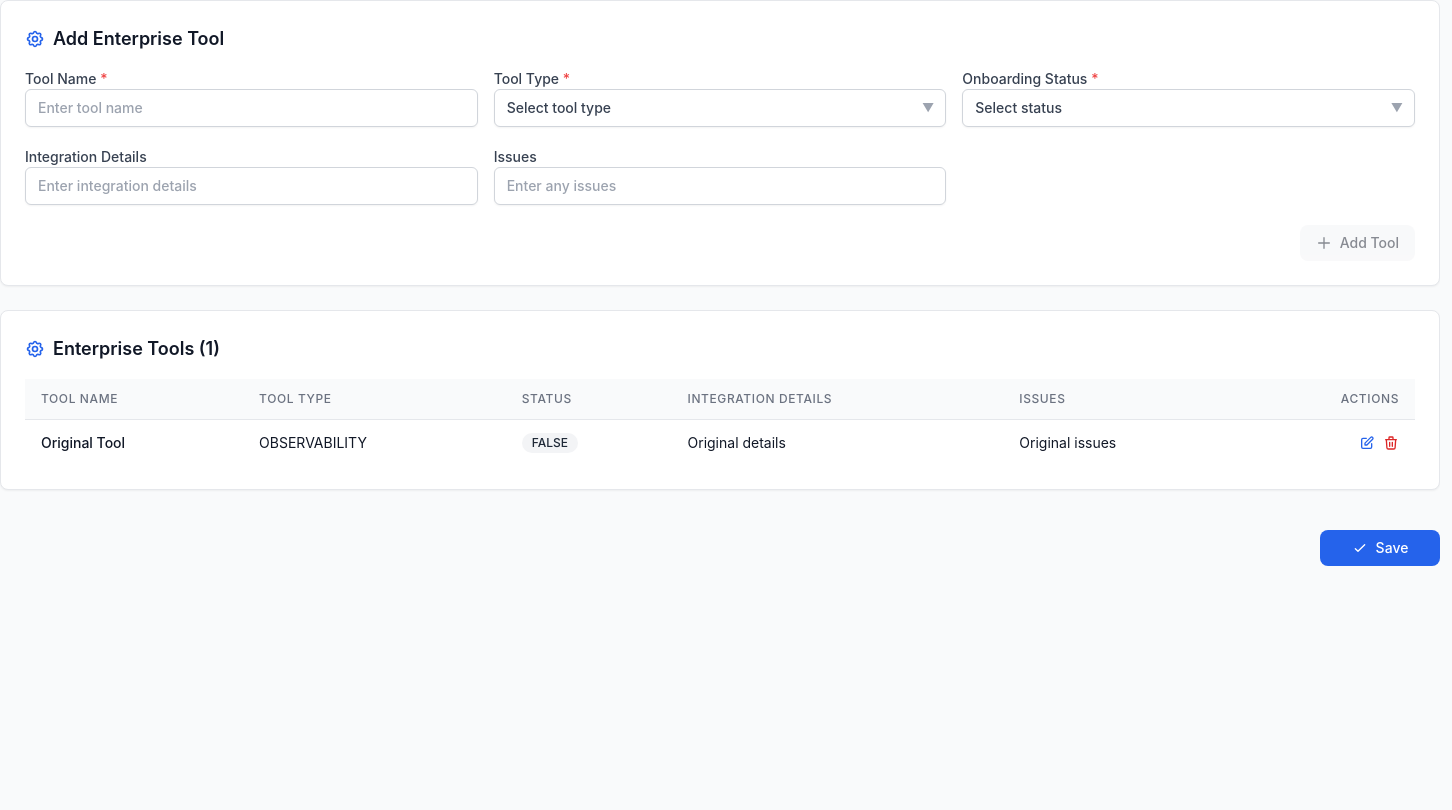
EnterpriseToolsStep › Edit Functionality › saves changes in edit mode
Click edit button
Click the button titled "Edit" at (1367, 442), box [1359,434,1375,450]
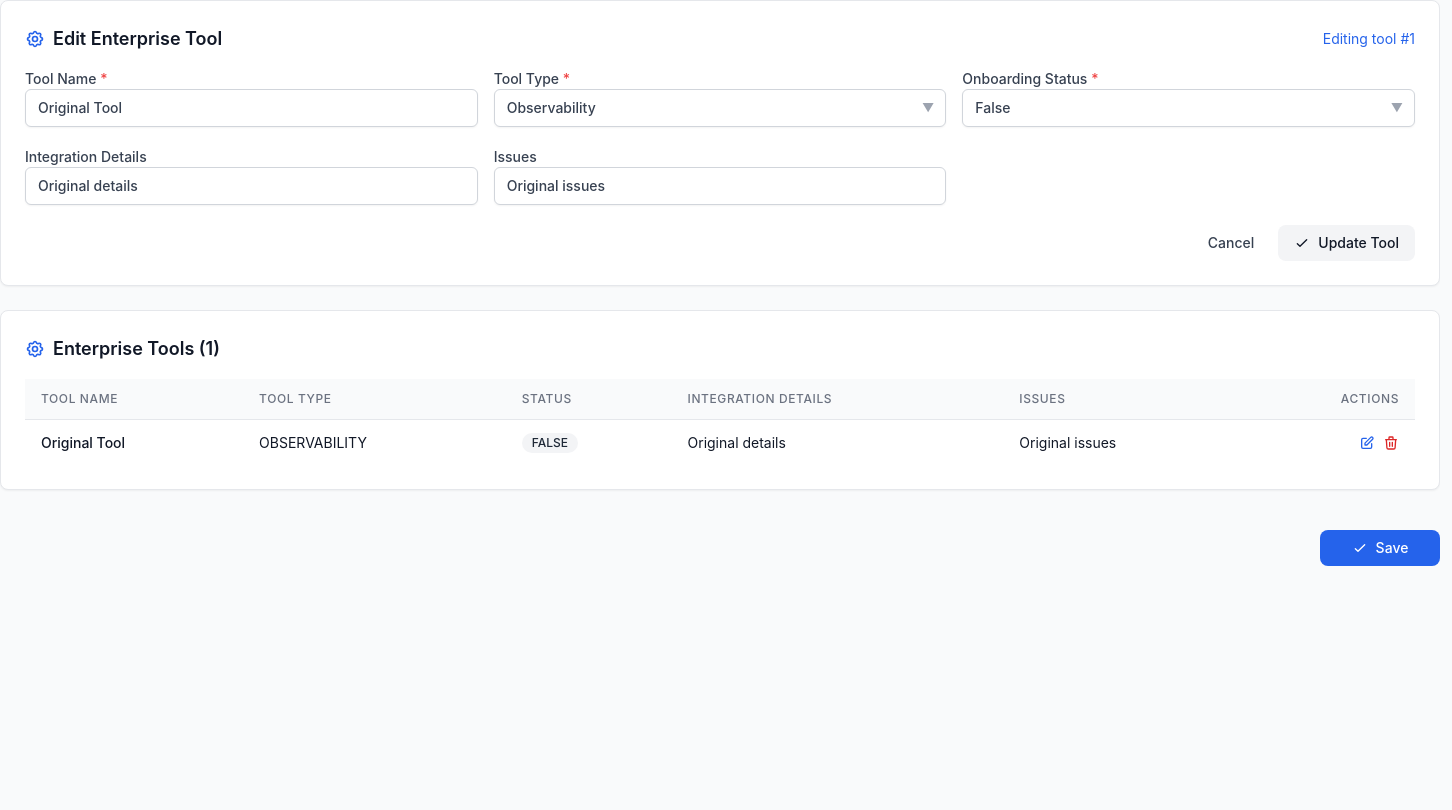
Update tool name
Replace the text in the field showing "Original Tool" with "Updated Tool" at (251, 108), box [25,89,478,127]
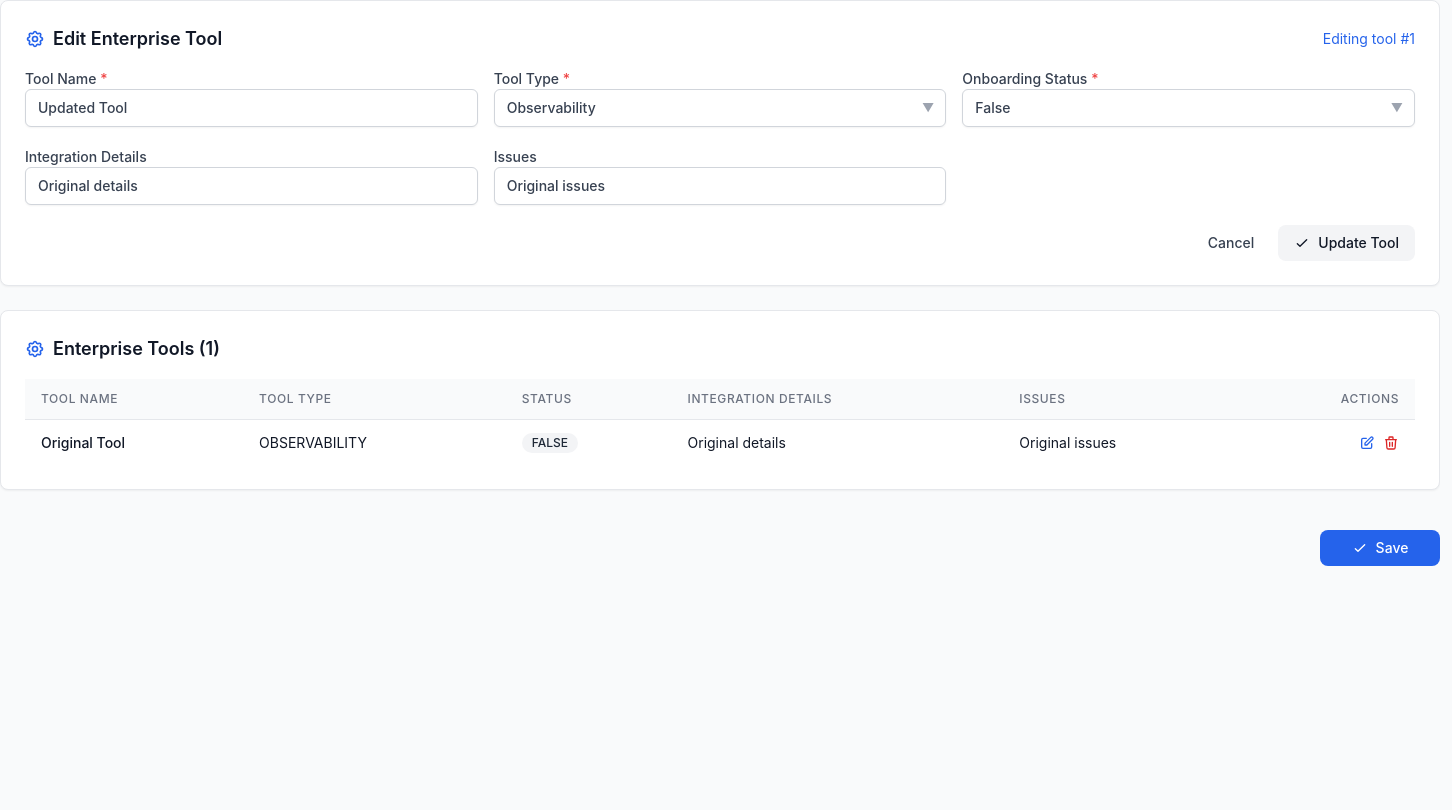
Update integration details
Replace the text in the field showing "Original details" with "Updated details" at (251, 186), box [25,167,478,205]
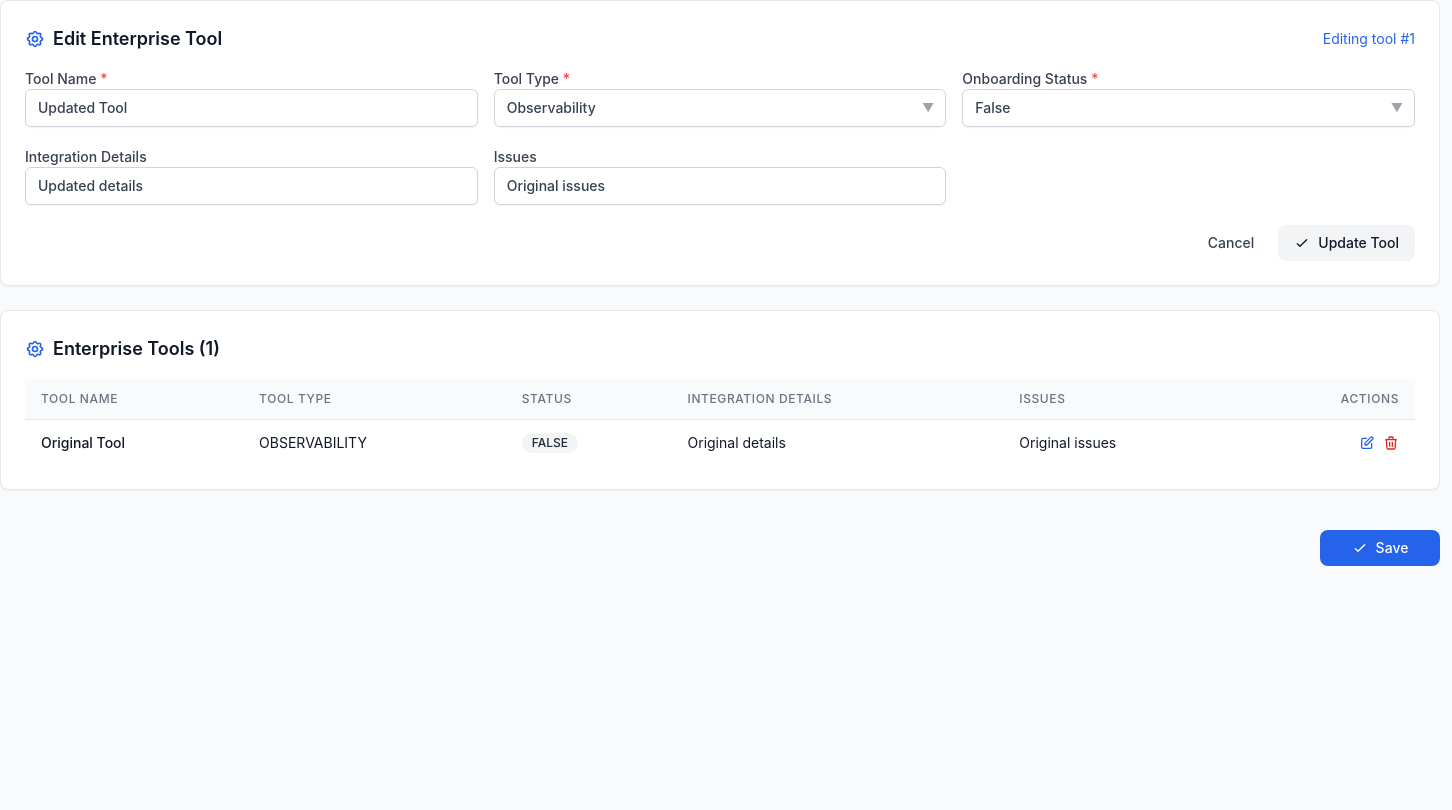
Update issues
Replace the text in the field showing "Original issues" with "Updated issues" at (720, 186), box [494,167,946,205]
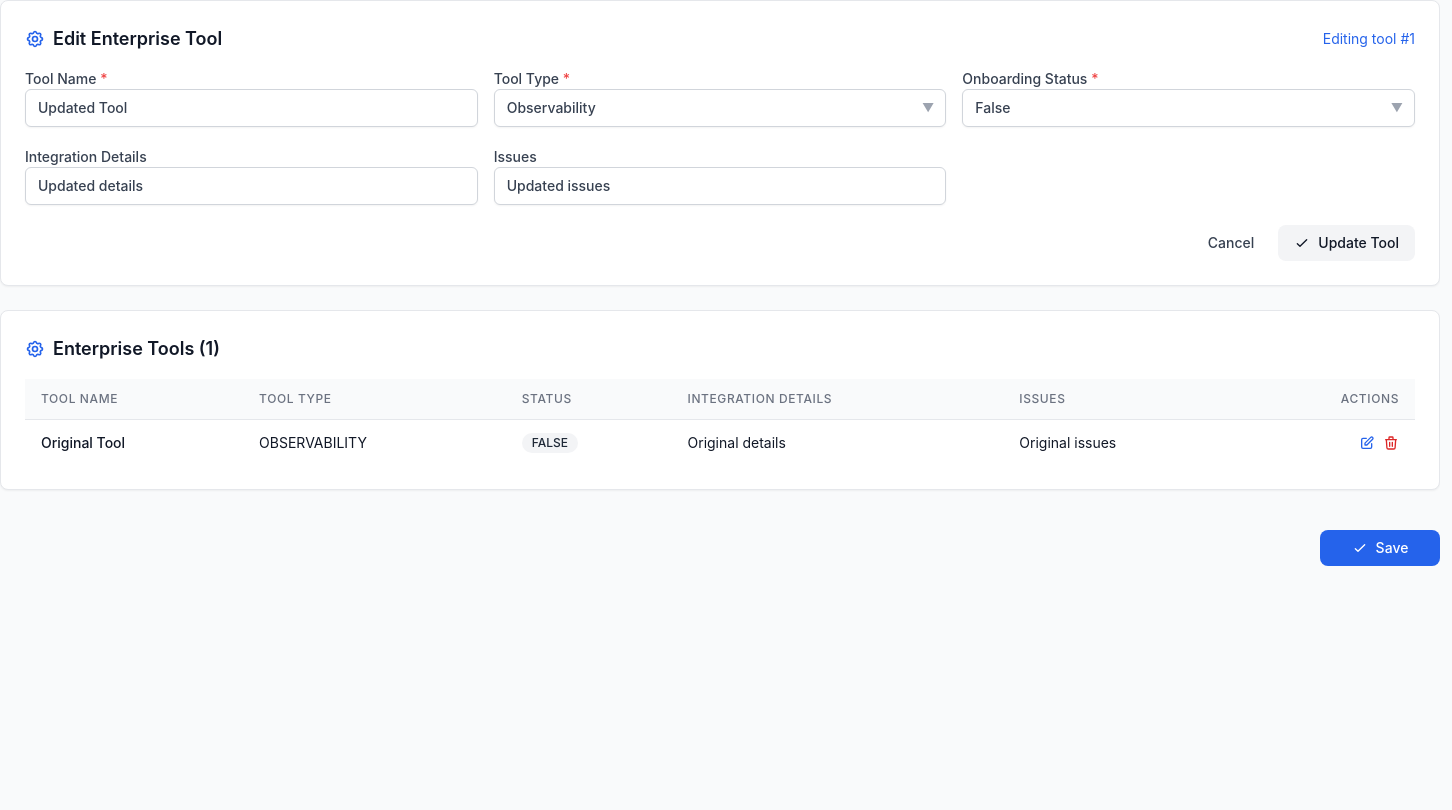
Click save button (Update Tool)
Click the button "Update Tool" at (1347, 243), box [1278,225,1415,261]
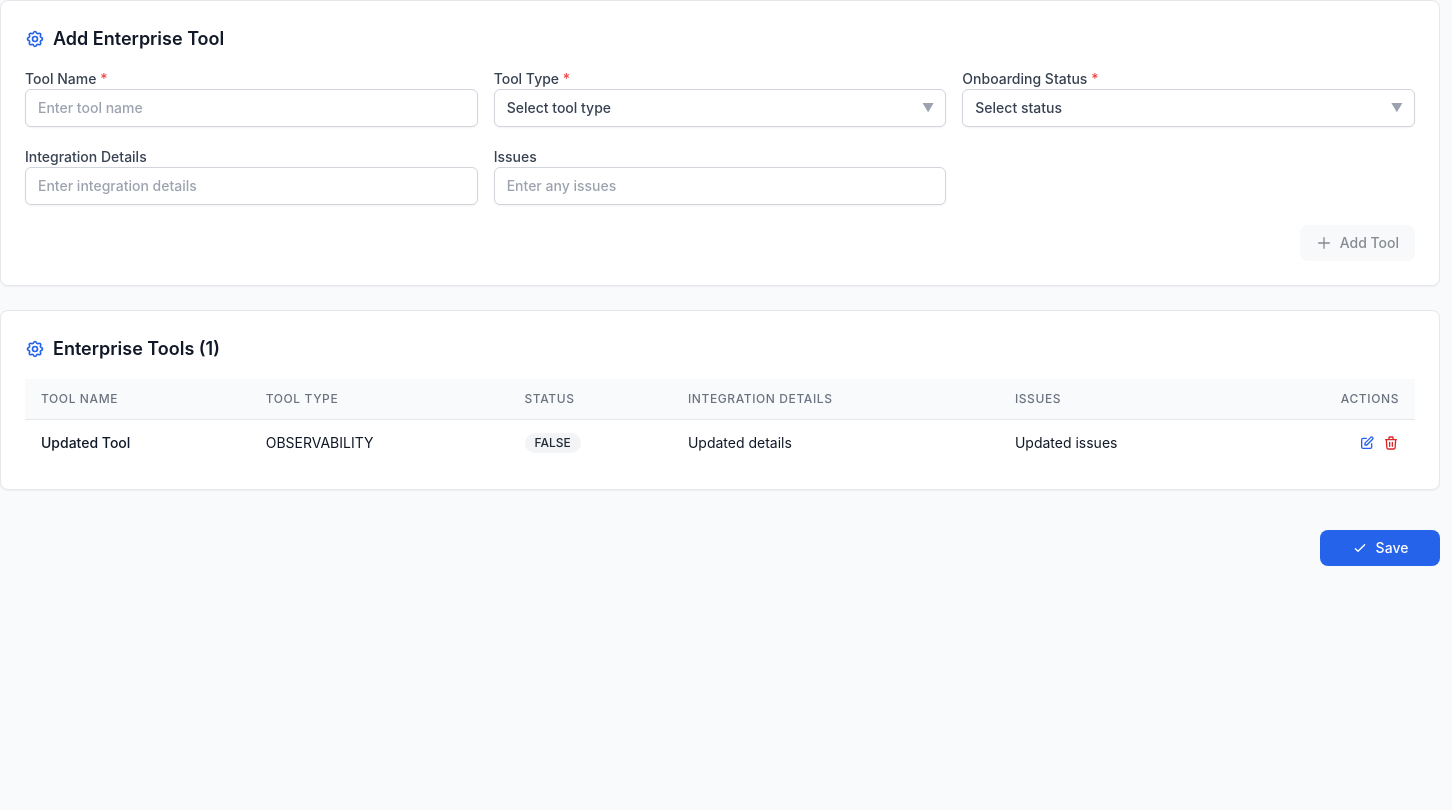
Expected: the text "Updated Tool" is shown, [25,420,250,465]
